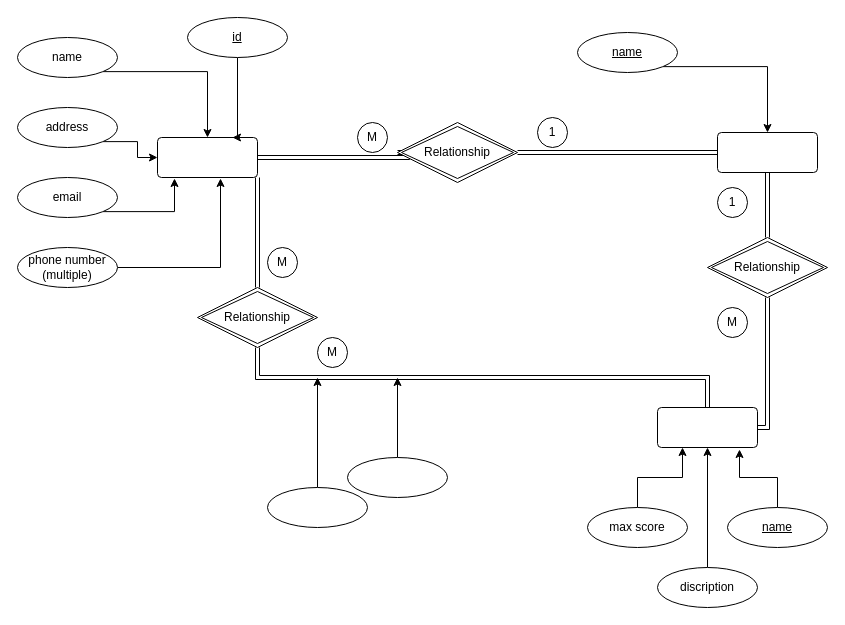
This 845x625 diagram has some shape labels left out. The box of each missing label's shape, as (x1, y1, x2, y2) in pixels:
exam date: (266, 486, 368, 528)
exam score: (346, 456, 448, 498)
STUDENT: (156, 136, 258, 178)
subject: (656, 406, 758, 448)
TRACK: (716, 132, 818, 172)
